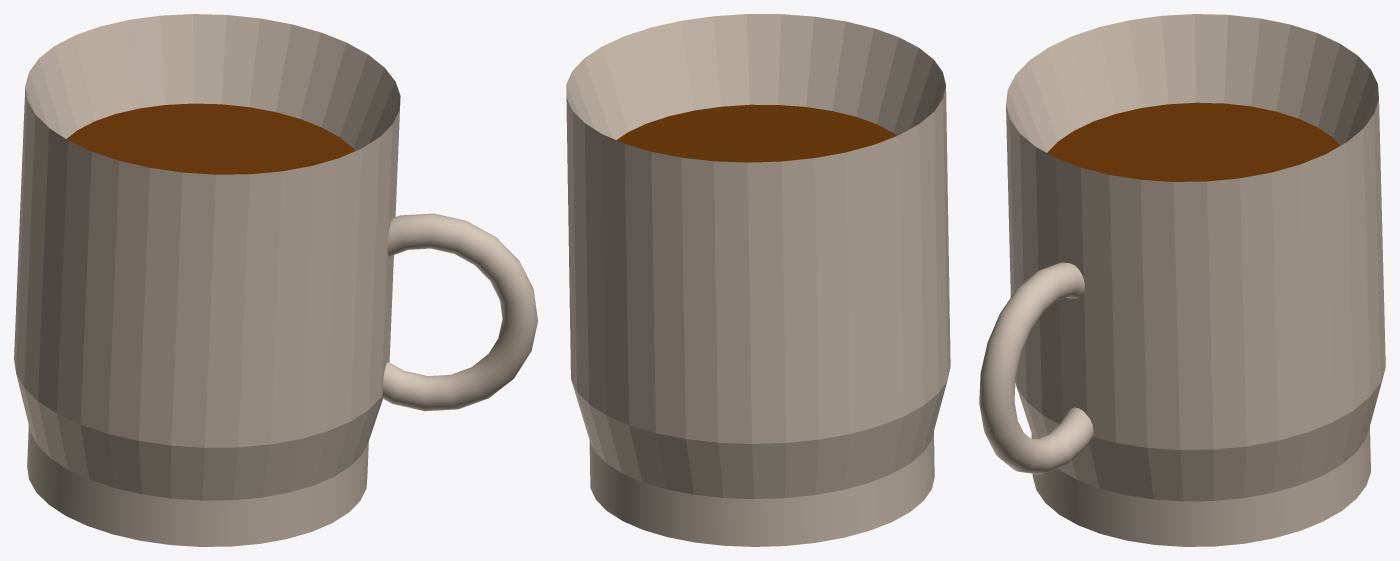
The model's file is Taza.fbx.
3 views of the same model, side by side, from view 1: azimuth 30°, elevation 25°; view 2: azimuth 150°, elevation 25°; view 3: azimuth 270°, elevation 25° (orthographic).
Visible parts, largest first — view 1: pCylinder12; view 2: pCylinder12; view 3: pCylinder12.
Boxes of the visible parts, <box> form: pCylinder12: <box>14,14,537,546</box>; pCylinder12: <box>566,14,950,546</box>; pCylinder12: <box>979,14,1385,546</box>.
Size of the model in its own units: 9.71 by 9.23 by 8.72.
